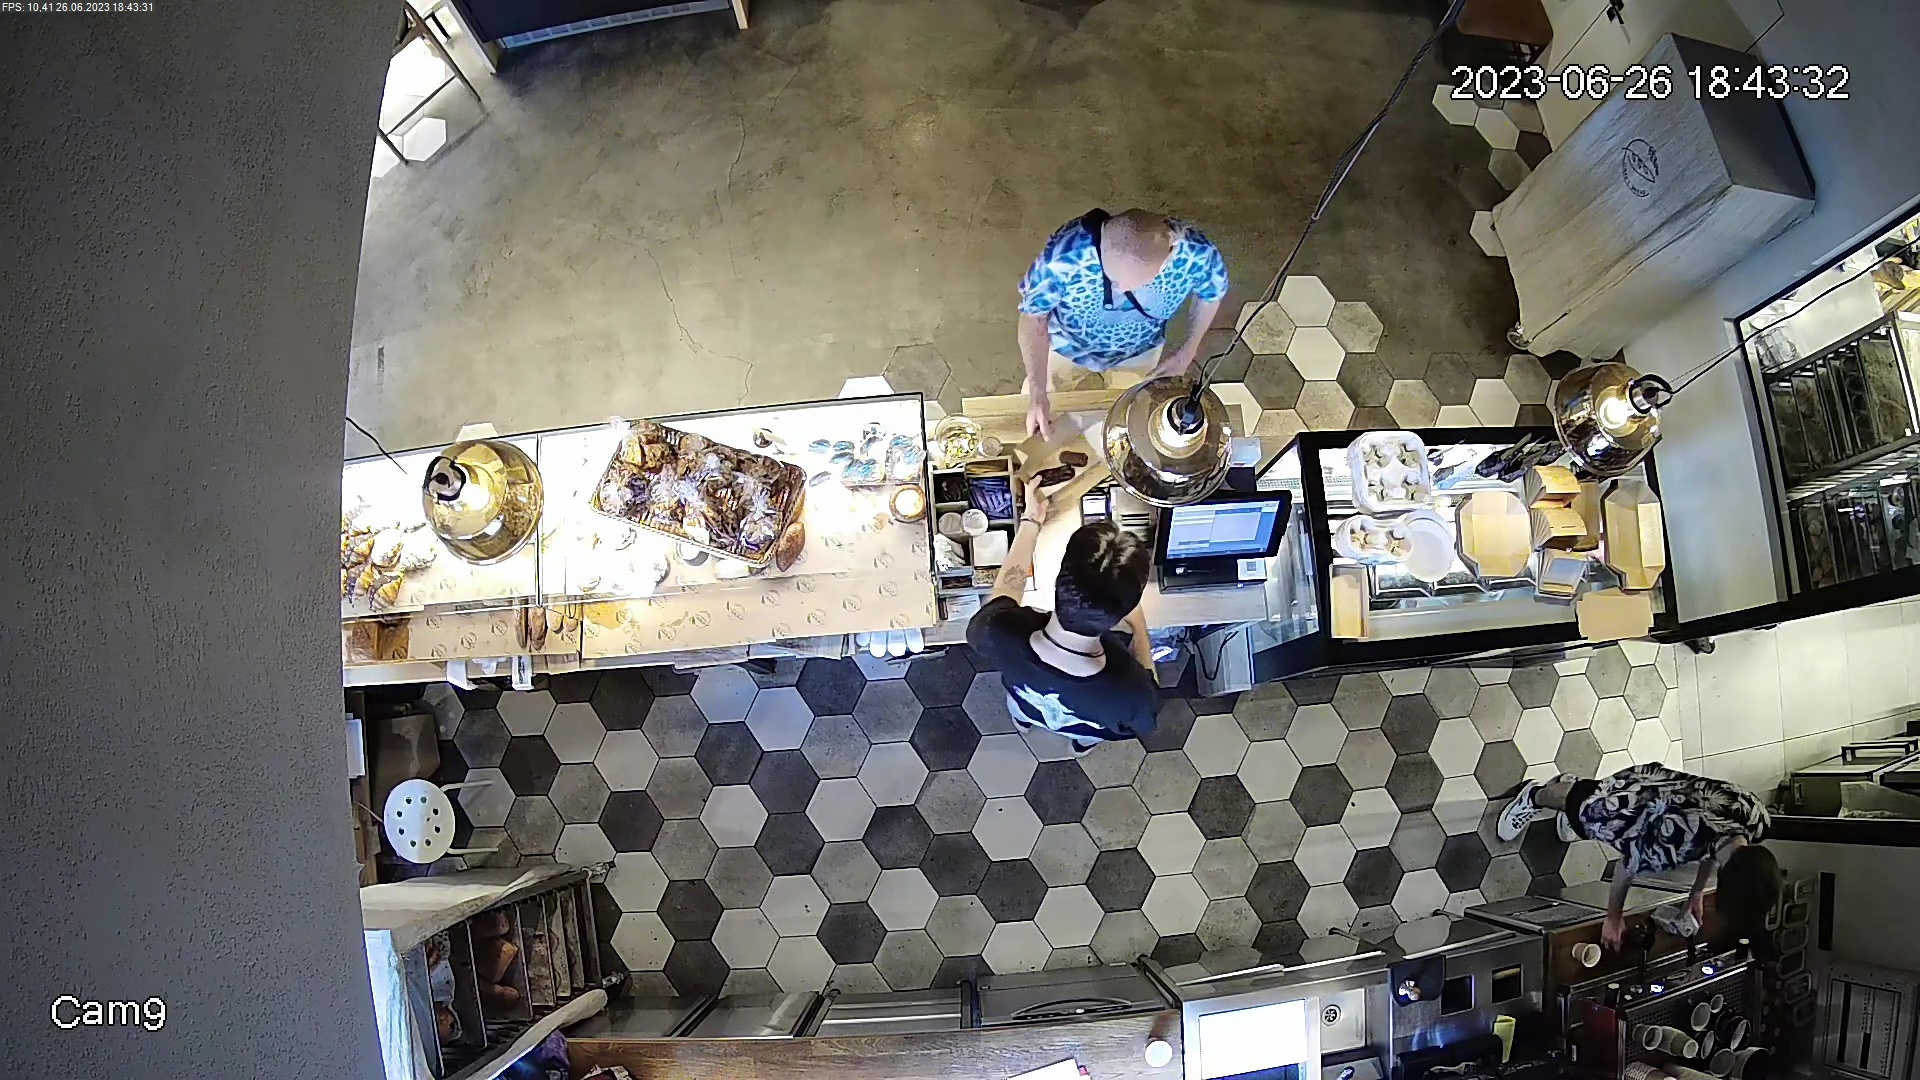pack: (1010, 402, 1112, 516)
person: (984, 187, 1238, 401)
